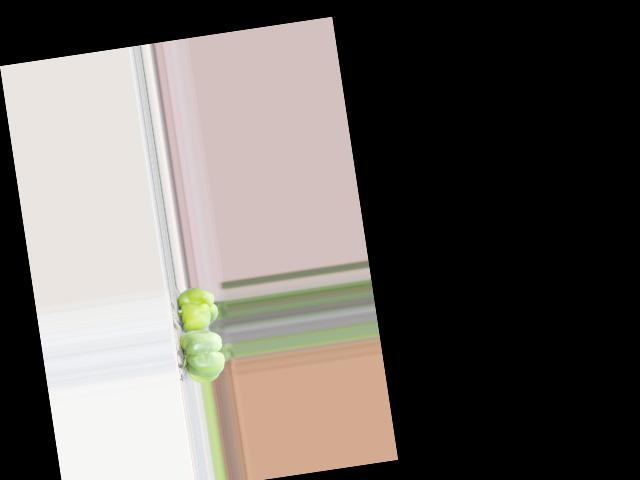bell_pepper: (172, 283, 222, 334)
